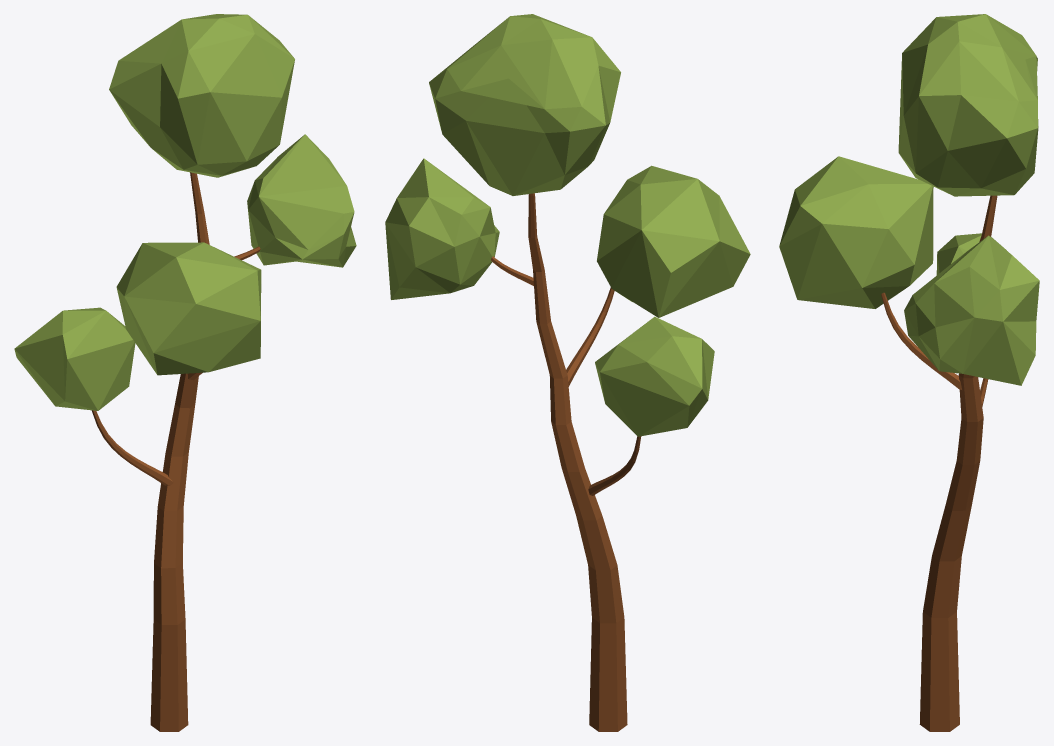
Rendered from Drzewo3.fbx.
The picture shows the model from 3 angles, left to right: view 1: azimuth 30°, elevation 25°; view 2: azimuth 150°, elevation 25°; view 3: azimuth 270°, elevation 25°; orthographic projection. The views are drawn at different scales.
Visible parts, largest first — view 1: Cylinder.010; view 2: Cylinder.010; view 3: Cylinder.010.
Boxes of the visible parts, x1,y1,x2,y2 form: Cylinder.010: (14, 14, 356, 731); Cylinder.010: (385, 14, 750, 731); Cylinder.010: (779, 14, 1039, 731).
Bounding box in the file's own units: 1135 × 2374 × 765.
